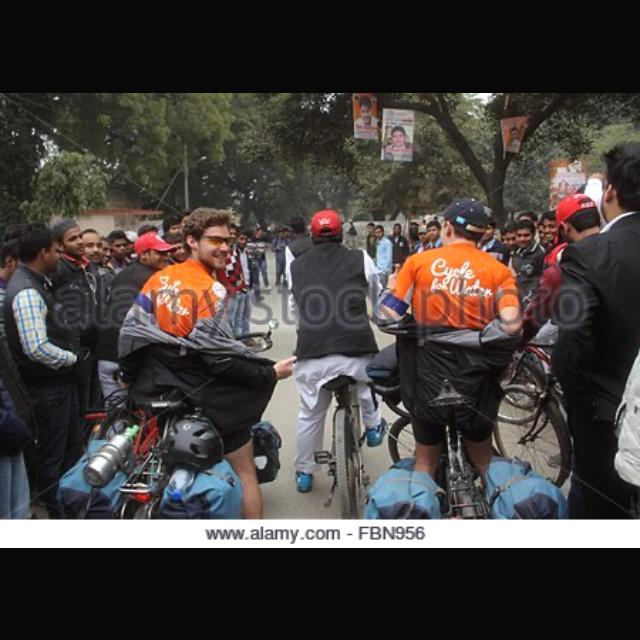Without Helmet: (170, 200, 242, 272), (430, 196, 494, 256), (306, 206, 344, 246)
